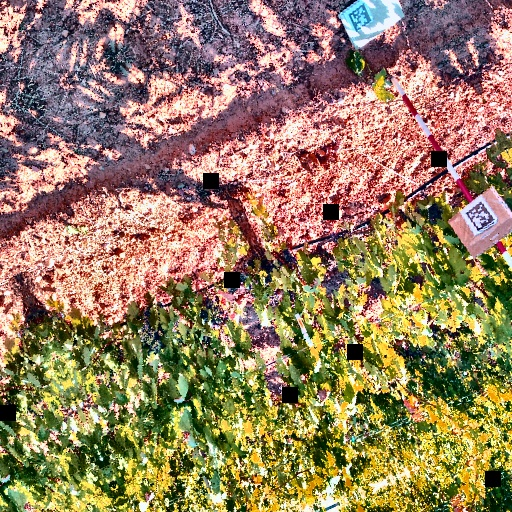QR: (464, 200, 497, 234), (348, 3, 373, 30)
